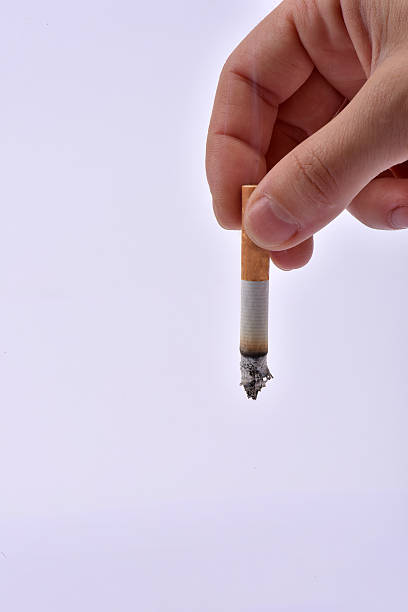cigarette: (239, 179, 270, 398)
